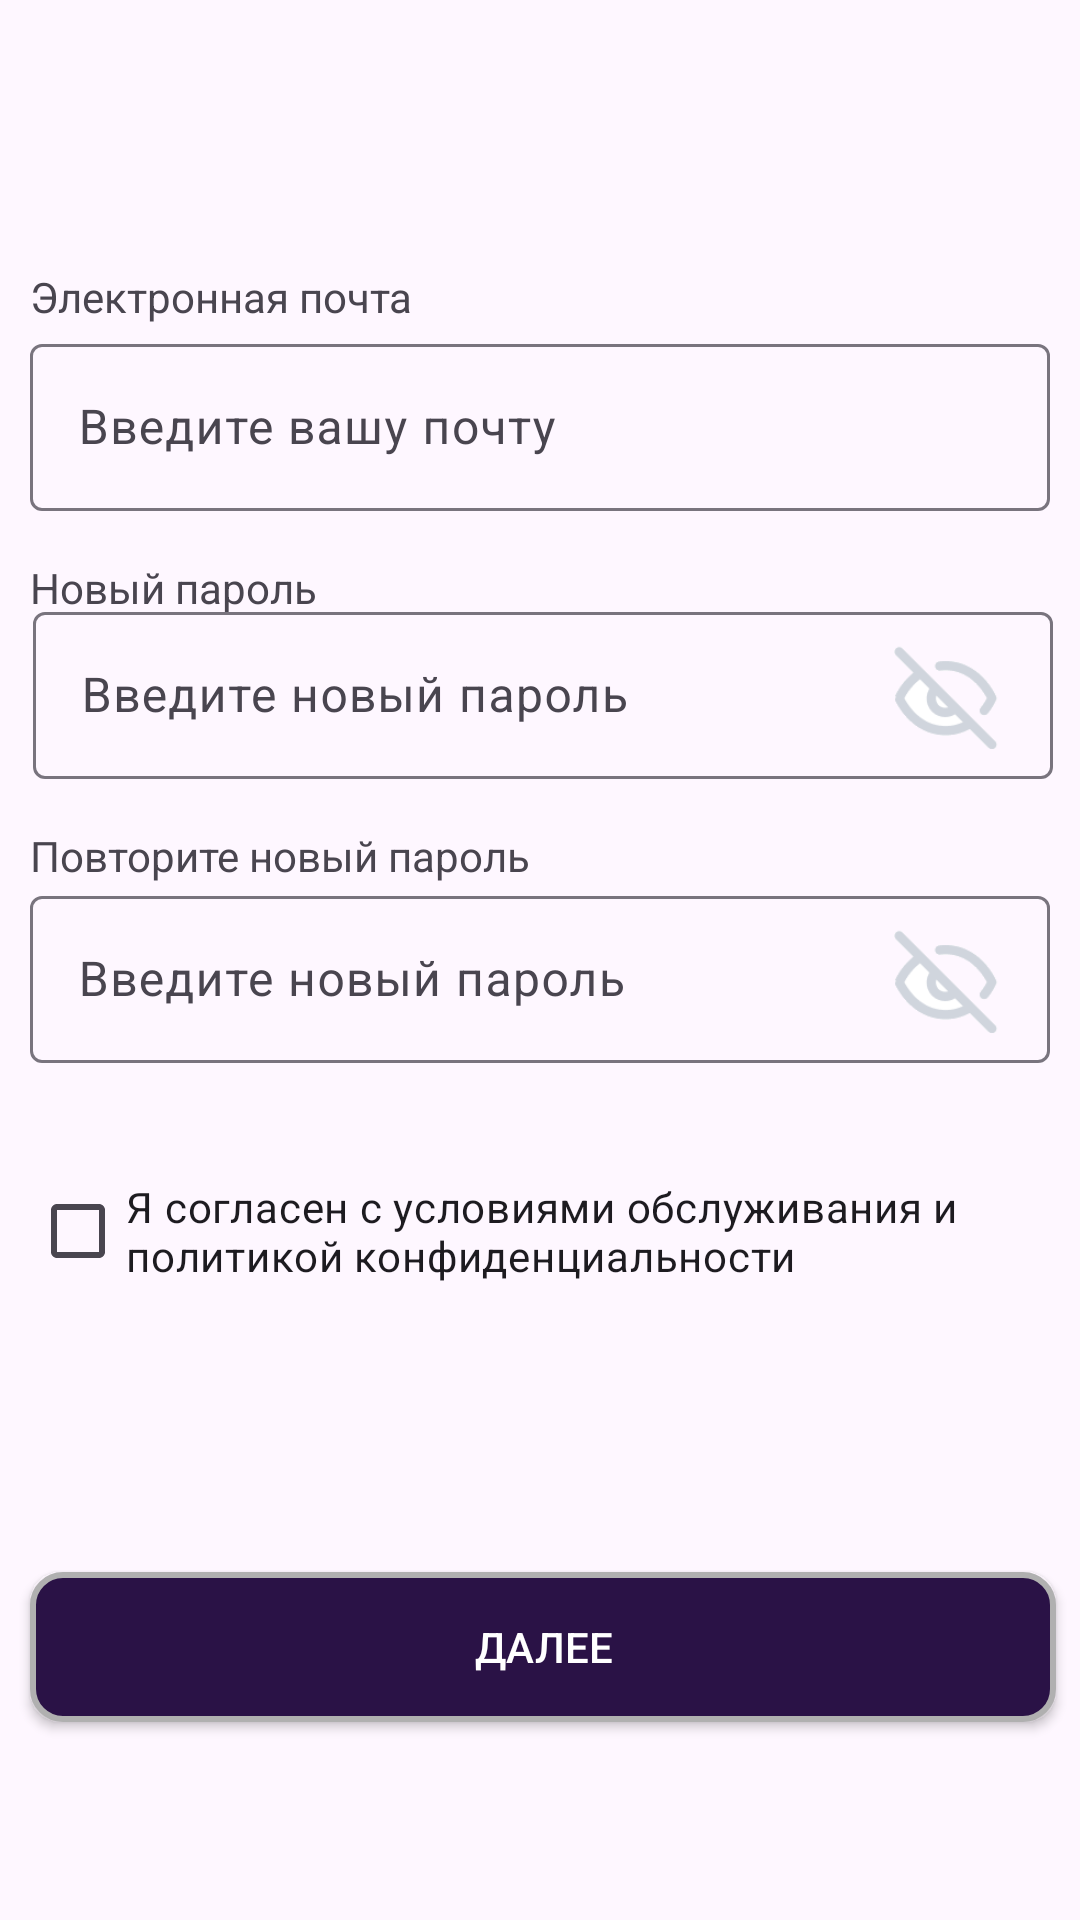

Screen size 1080x1920. Icon name, then its center in pixels as point (x, y):
pass hide: point (945, 698), point (945, 982)
